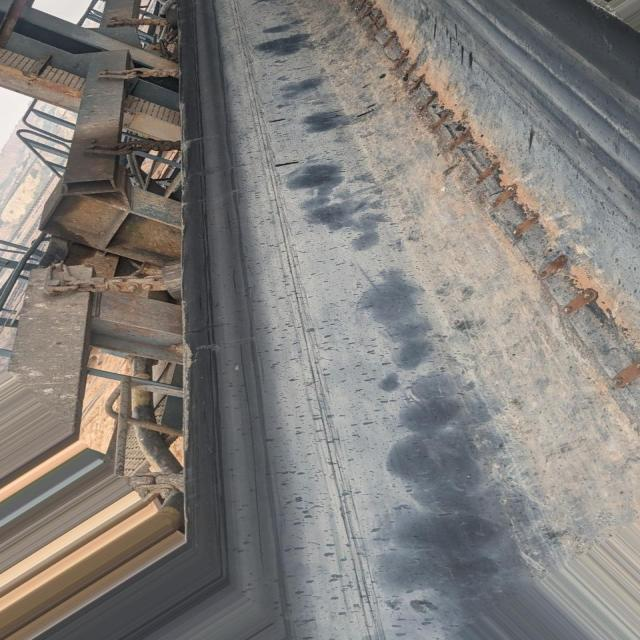patch work: (329, 0, 640, 427)
